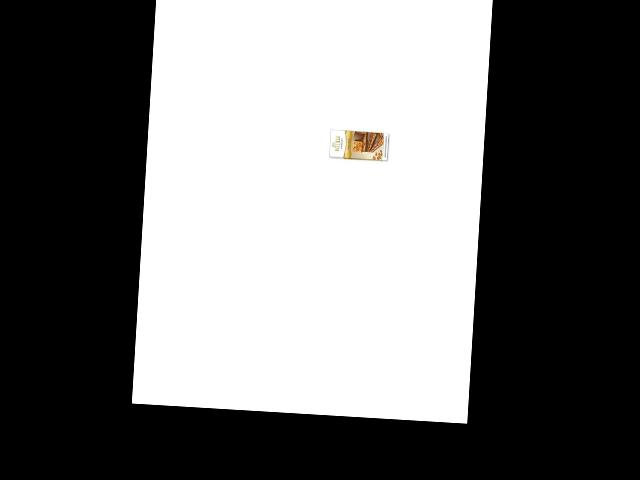chocolate: (325, 123, 392, 172)
